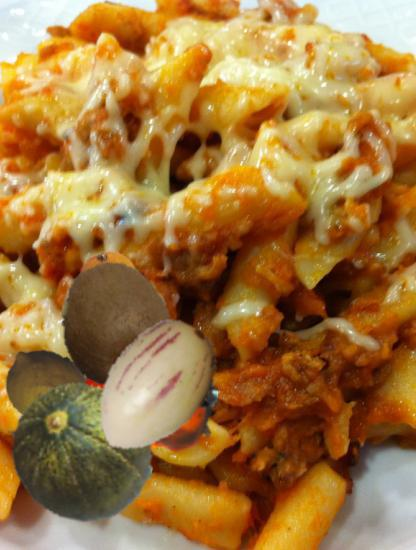Kaki: (76, 328, 219, 471)
Kiwi: (53, 260, 180, 387)
Kohlrabi: (120, 354, 188, 422)
Lemon: (3, 343, 90, 430), (73, 251, 147, 325)
Melon: (5, 378, 155, 528)
Pepino: (85, 316, 233, 464)
